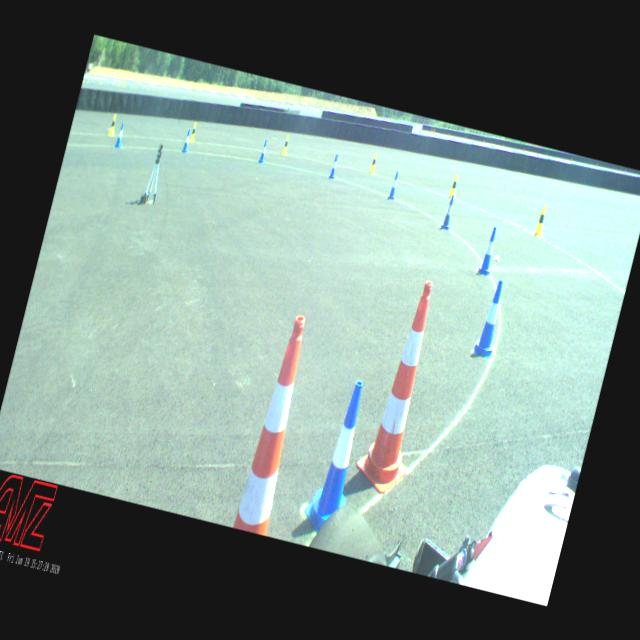blue_cone: (300, 375, 376, 538), (471, 276, 510, 360), (476, 225, 501, 276), (440, 194, 457, 231), (387, 170, 401, 200), (114, 122, 127, 148), (328, 153, 340, 179), (181, 128, 193, 152), (258, 139, 270, 163)
large_orange_cone: (350, 274, 452, 497), (232, 312, 320, 536)
yellow_cone: (533, 204, 549, 236), (448, 172, 460, 198), (108, 112, 119, 136), (368, 152, 378, 174), (189, 121, 199, 142), (282, 134, 290, 154)
